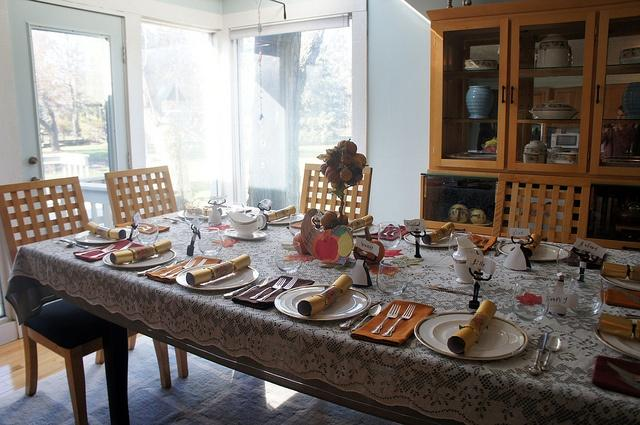Kursi: (0, 174, 109, 424)
Meja: (17, 197, 639, 424)
Rak: (428, 0, 639, 178)
